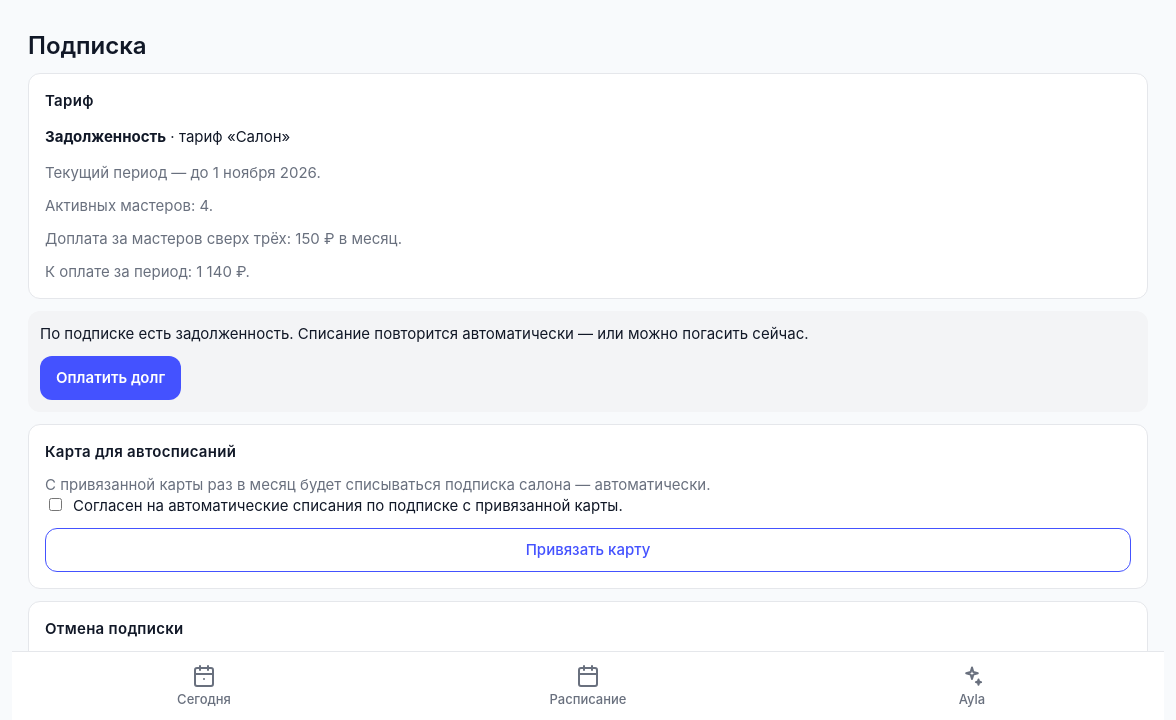
Test: заморозка и долг › платёж без подтверждения — не говорит, что долг погашен
The width and height of the screenshot is (1176, 720).
Click the button "Оплатить долг" at (111, 378), box left=40, top=356, right=181, bottom=400
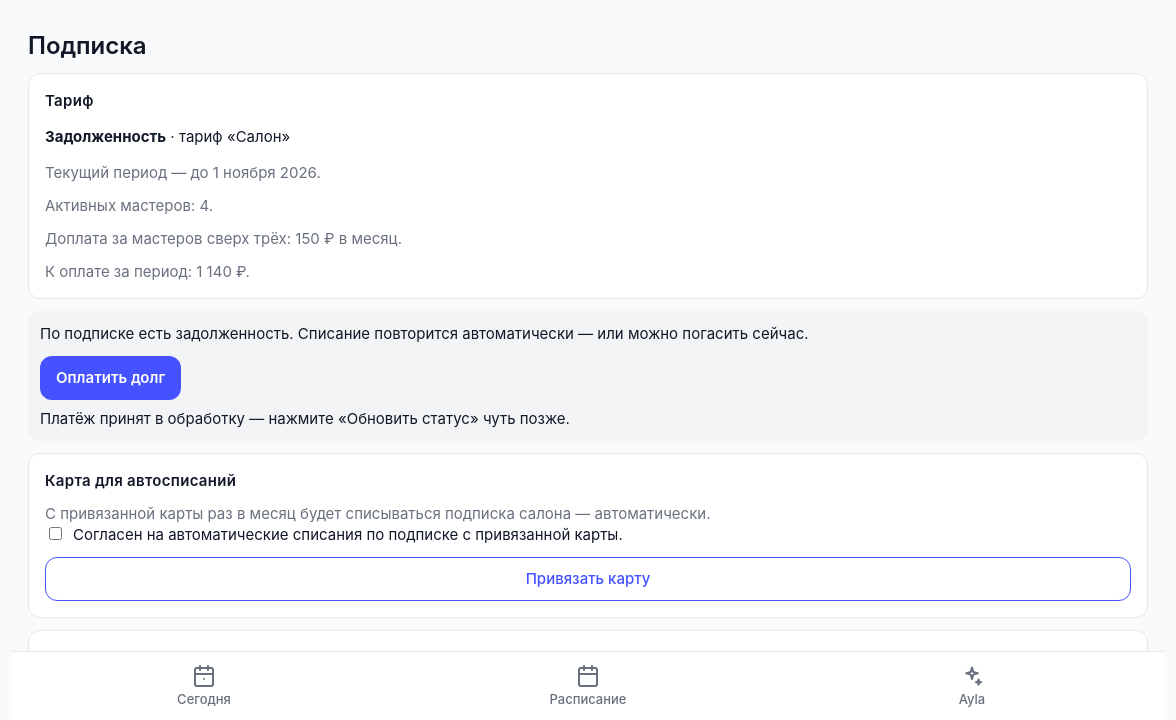
Expected: the text "Платёж принят в обработку" is shown, left=40, top=409, right=570, bottom=428
